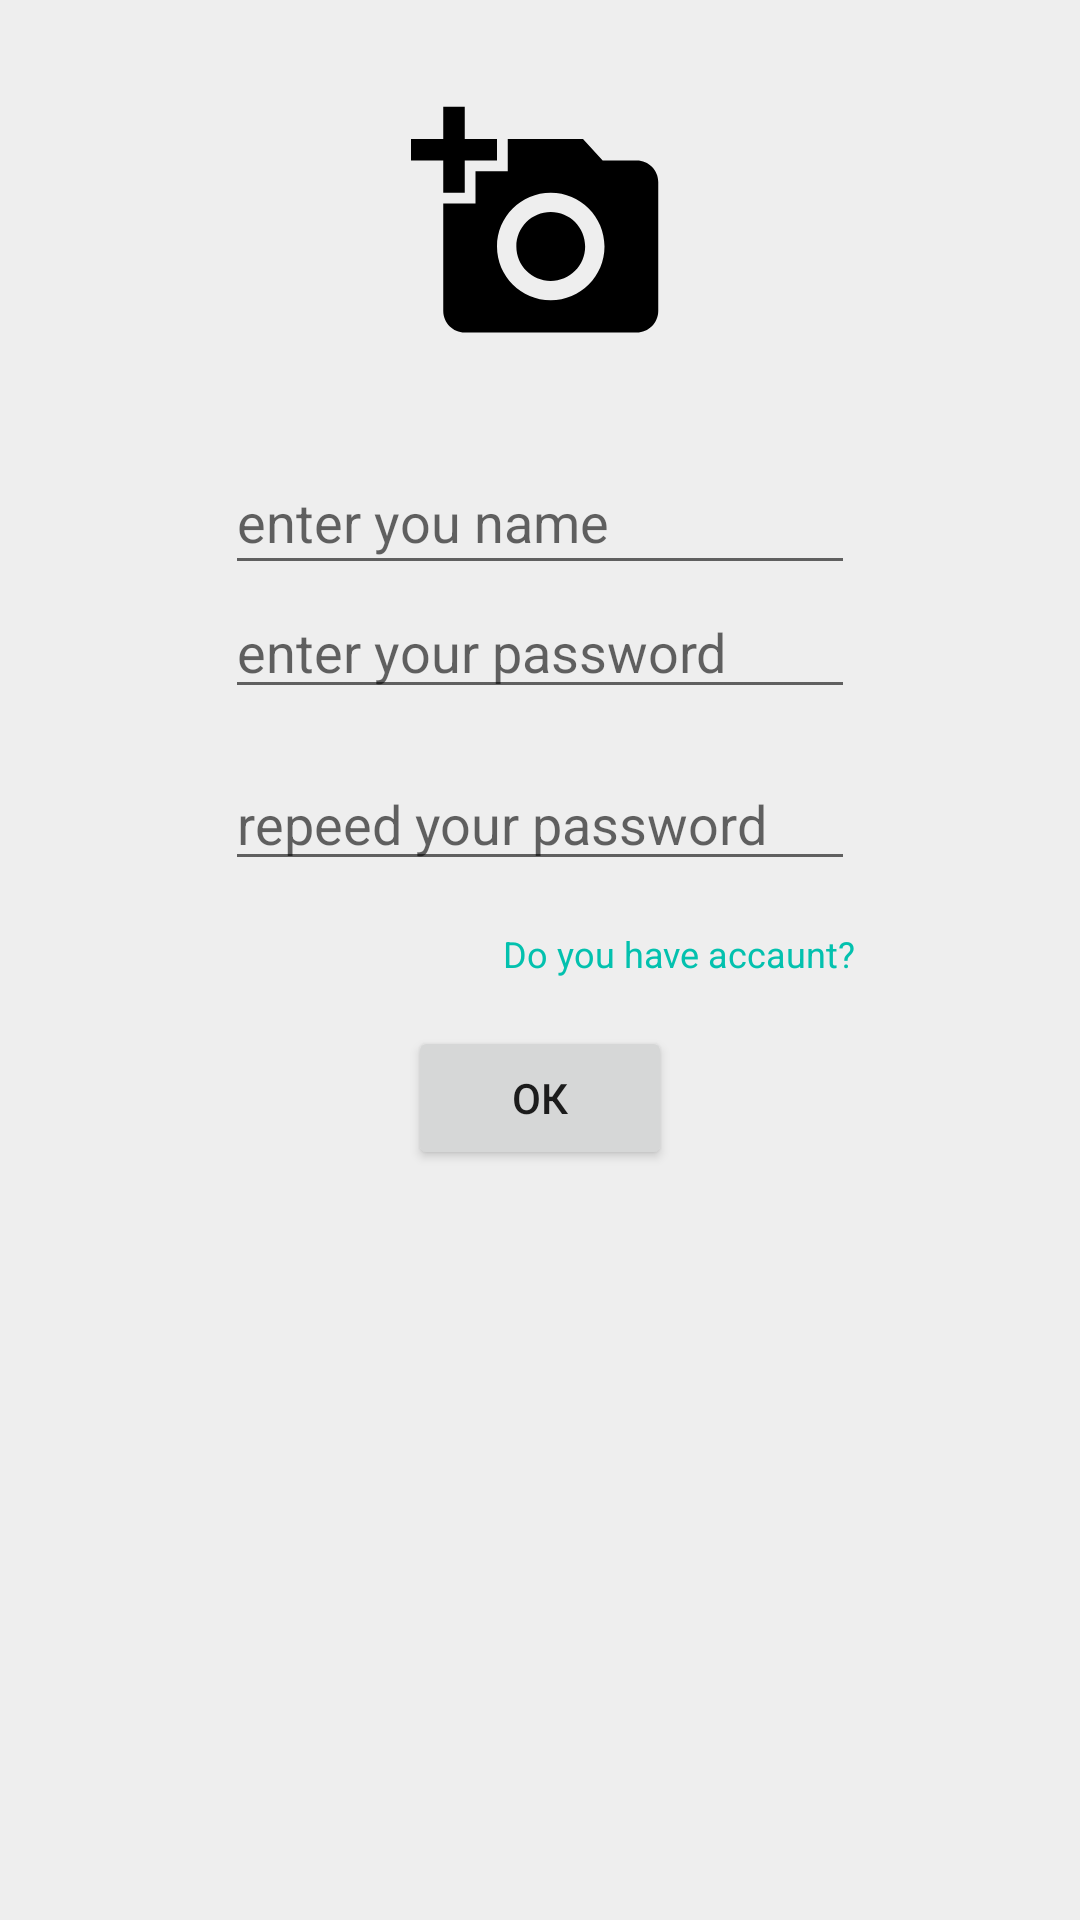

Icon click points for this 1080*1920 phone screenshot, format point (x, y):
add photo: point (535, 219)
